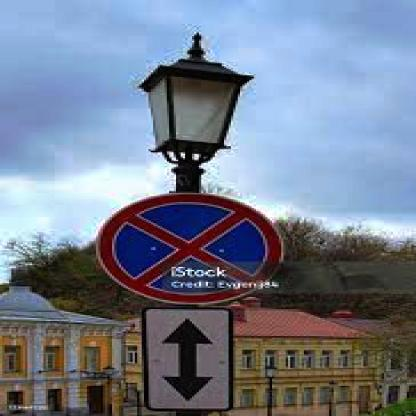No stopping: (98, 192, 271, 304)
